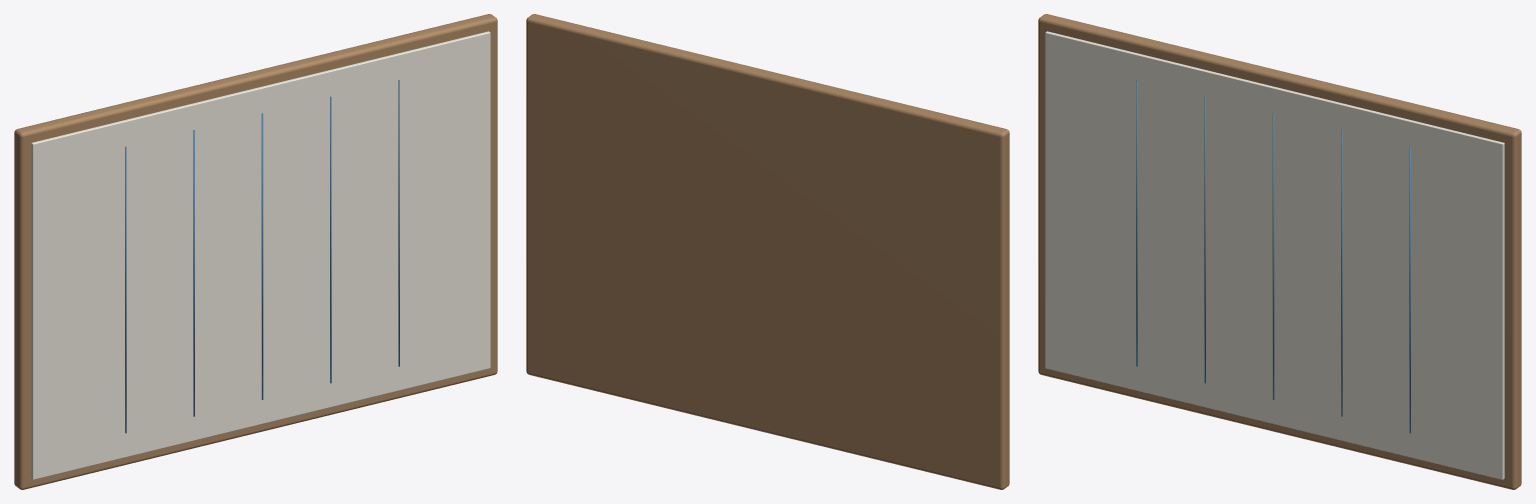
Rendered from atelier-corkboard.glb.
The picture shows the model from 3 angles, left to right: view 1: azimuth 30°, elevation 25°; view 2: azimuth 150°, elevation 25°; view 3: azimuth 330°, elevation 25°; orthographic projection.
Parts seen in each view (by area): view 1: ceramic.115, legs.175, artBlue.024; view 2: legs.175; view 3: ceramic.115, legs.175, artBlue.024.
Part boxes in pixels (<box>): ceramic.115: <box>31,31,490,479</box>; legs.175: <box>14,14,497,489</box>; artBlue.024: <box>125,80,399,433</box>; legs.175: <box>526,14,1009,489</box>; ceramic.115: <box>1045,31,1504,479</box>; legs.175: <box>1038,14,1521,489</box>; artBlue.024: <box>1136,80,1410,433</box>.
Bounding box in the file's own units: 1.4 × 1 × 0.055.
